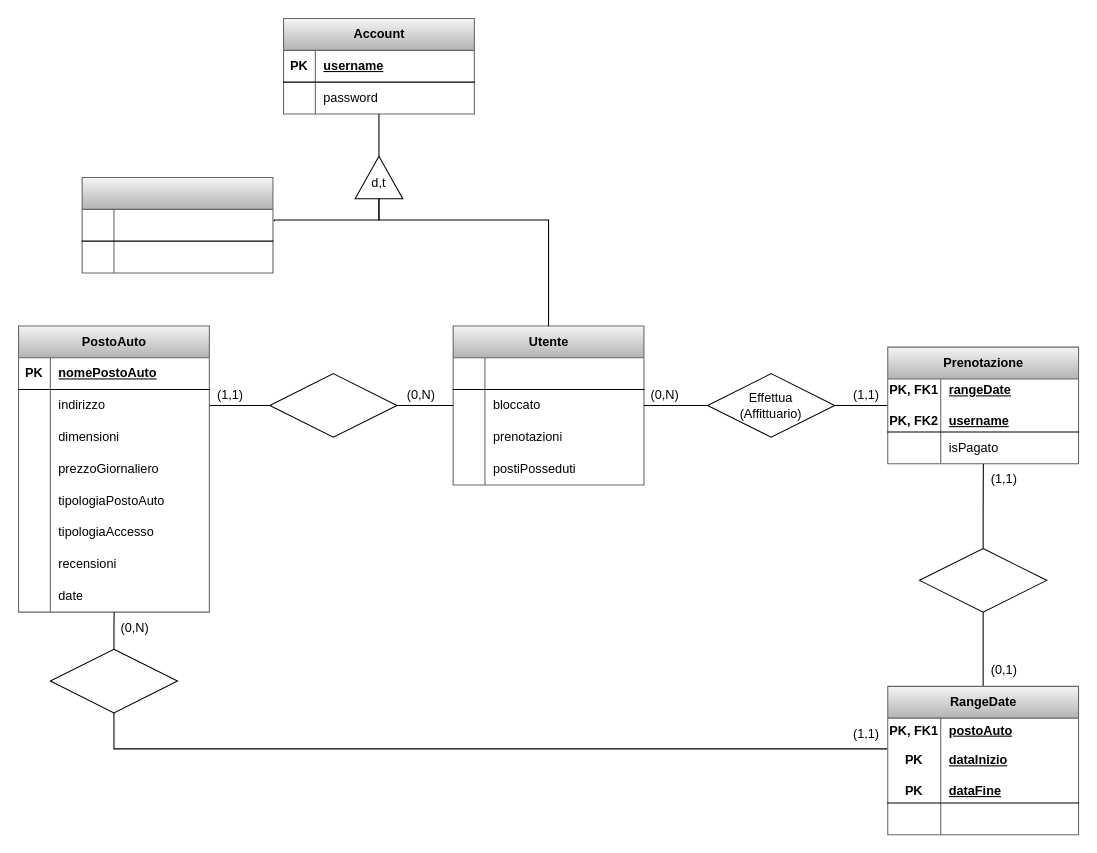
Image size: 1097x853. Some labels were removed from this diagram. Each missing label, with the centre of its shape:
Amministratore: the point at 177,224
Associata a: the point at 982,579
Formato da: the point at 113,680
Inserisce (Proprietario): the point at 333,405
